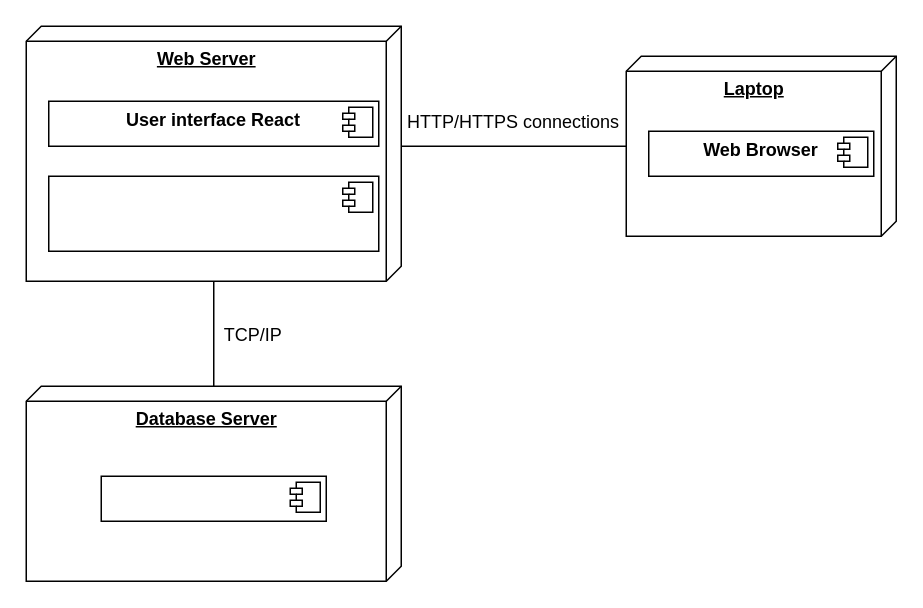
This 923x608 diagram has some shape labels left out. The shapes that lost their labels are listed below. From the top down, each one's box as (x1, y1, x2, y2) in pixels, then its label:
(47, 175, 379, 251): Database interface Nodejs
(100, 475, 326, 521): MongoDB
